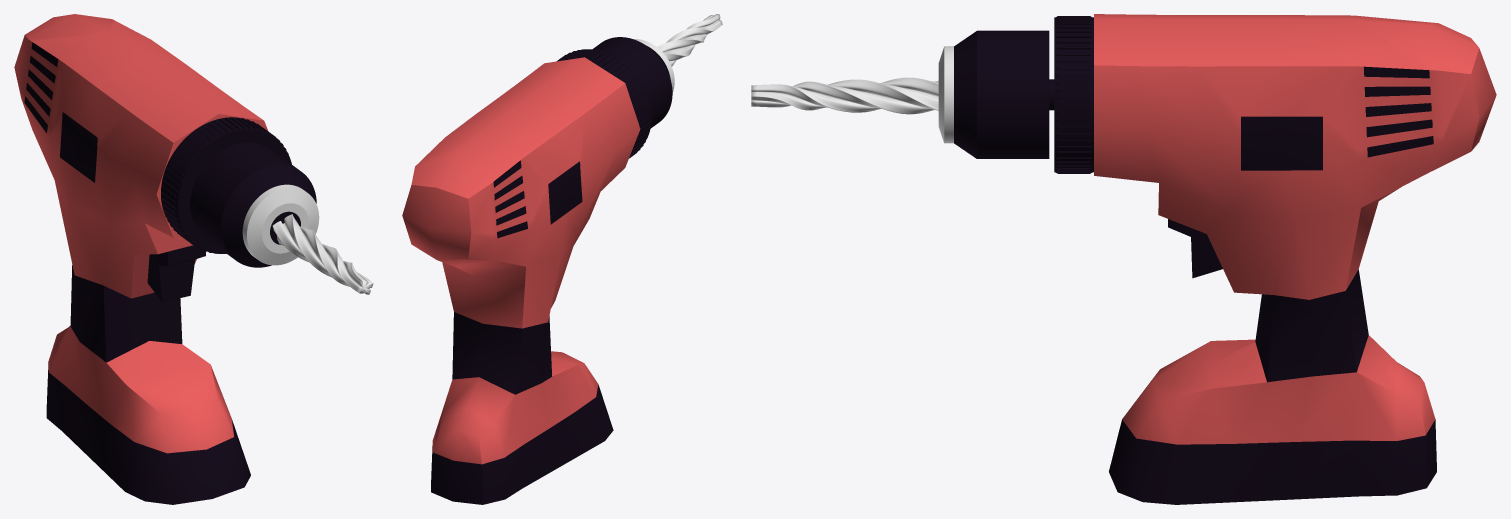
The model's file is powertool.fbx.
3 views of the same model, side by side, from view 1: azimuth 30°, elevation 25°; view 2: azimuth 150°, elevation 25°; view 3: azimuth 270°, elevation 25° (orthographic). The views are drawn at different scales.
Parts seen in each view (by area): view 1: Cube, Cylinder, NurbsCurve; view 2: Cube, Cylinder, NurbsCurve; view 3: Cube, Cylinder, NurbsCurve.
Part boxes in pixels (bbox=[...]): Cube: bbox=[14, 14, 268, 504]; Cylinder: bbox=[161, 117, 319, 267]; NurbsCurve: bbox=[272, 214, 373, 294]; Cube: bbox=[402, 57, 640, 504]; Cylinder: bbox=[556, 37, 674, 158]; NurbsCurve: bbox=[657, 14, 722, 66]; Cube: bbox=[1094, 14, 1496, 504]; Cylinder: bbox=[938, 16, 1093, 173]; NurbsCurve: bbox=[751, 77, 938, 114].
Bounding box in the file's own units: 9.96 × 29.28 × 43.68.
